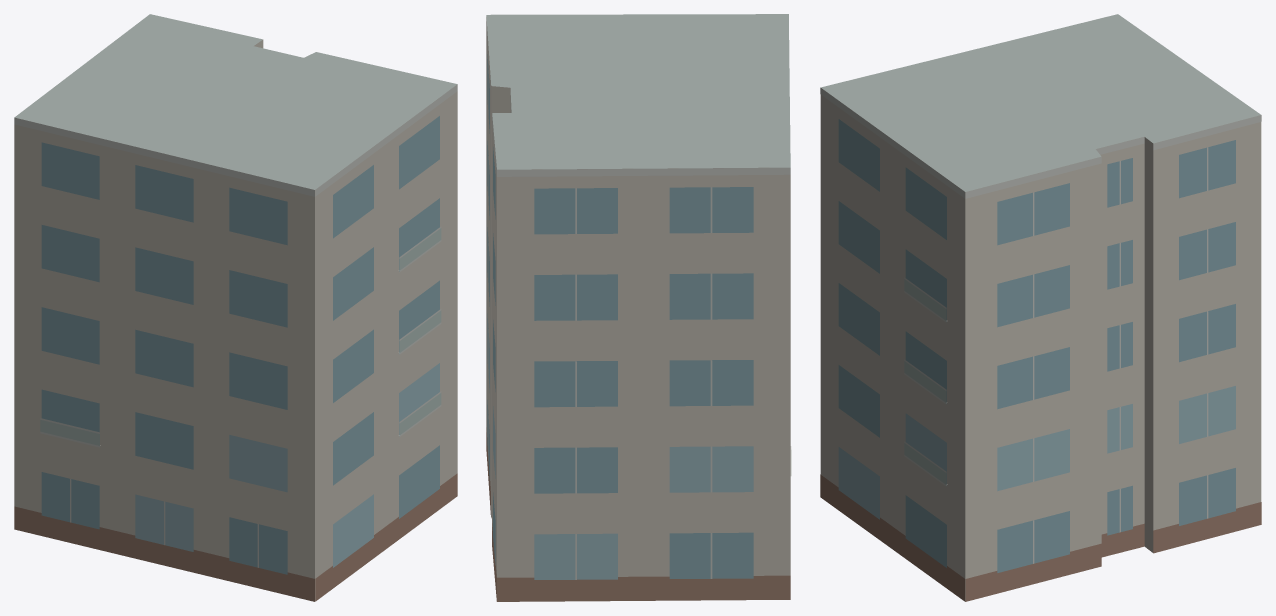
File: survey-upis-32862825.glb
The picture shows the model from 3 angles, left to right: view 1: azimuth 30°, elevation 25°; view 2: azimuth 150°, elevation 25°; view 3: azimuth 270°, elevation 25°; orthographic projection. The views are drawn at different scales.
Parts seen in each view (by area): view 1: survey-upis-32862825.tmp; view 2: survey-upis-32862825.tmp; view 3: survey-upis-32862825.tmp.
Boxes of the visible parts, x1,y1,x2,y2 form: survey-upis-32862825.tmp: [14, 14, 457, 601]; survey-upis-32862825.tmp: [486, 14, 791, 601]; survey-upis-32862825.tmp: [820, 14, 1261, 601].
Bounding box in the file's own units: 13.61 × 14.6 × 14.24.
